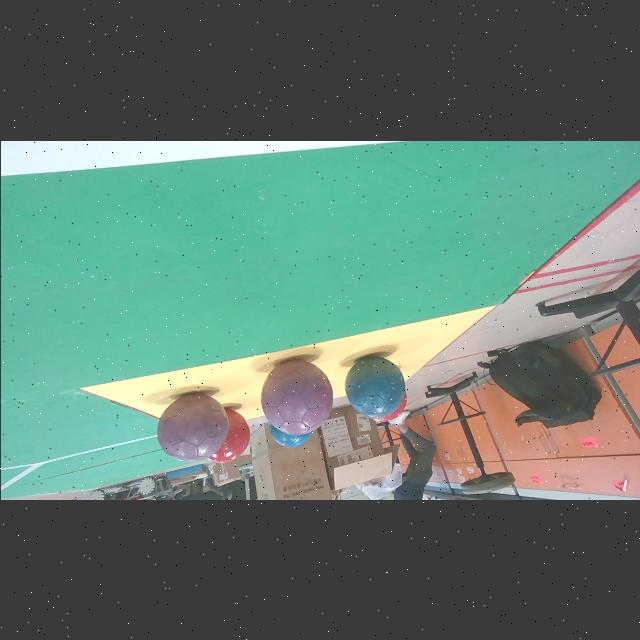B: (344, 356, 405, 419), (268, 425, 312, 448)
P: (260, 360, 333, 434), (157, 394, 228, 461)
R: (208, 409, 250, 463)
